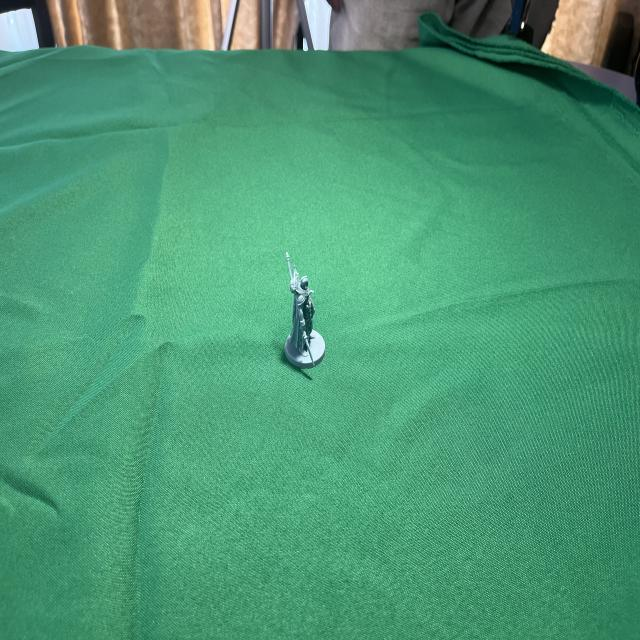isis_follower: (276, 242, 335, 372)
